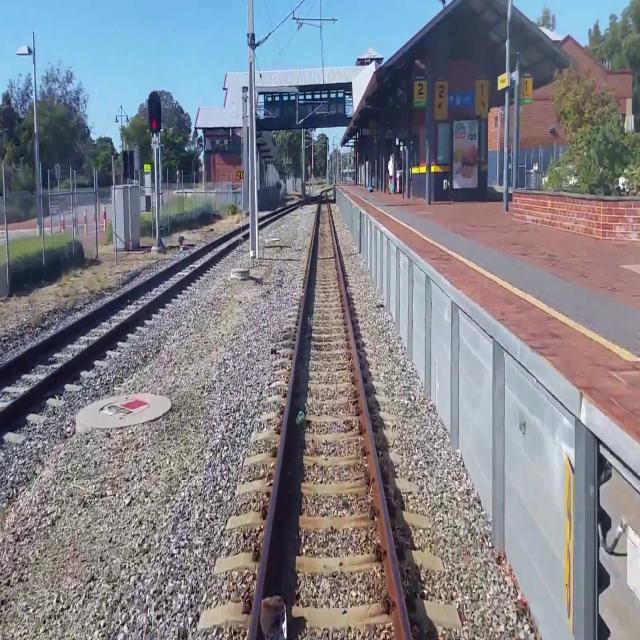rail-track: (255, 190, 403, 639), (0, 228, 241, 411), (258, 194, 320, 225), (242, 223, 250, 235)
